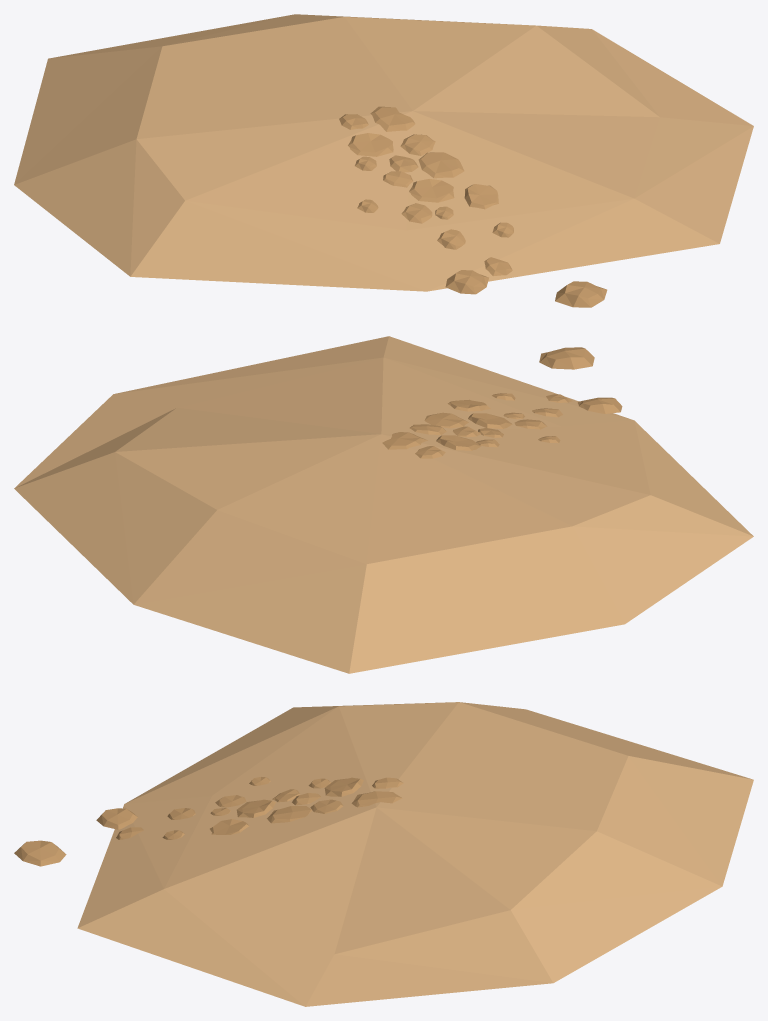
Rendered from Hill.fbx.
3 views of the same model, one above another, from view 1: azimuth 30°, elevation 25°; view 2: azimuth 150°, elevation 25°; view 3: azimuth 270°, elevation 25° (orthographic). The views are drawn at different scales.
Visible parts, largest first — view 1: Hill; view 2: Hill; view 3: Hill.
Part boxes in pixels (box(x1,y1,x2,y2)): Hill: box(14, 14, 753, 307); Hill: box(14, 336, 753, 673); Hill: box(14, 702, 753, 1006).
Bounding box in the file's own units: 1167 × 1249 × 112.
